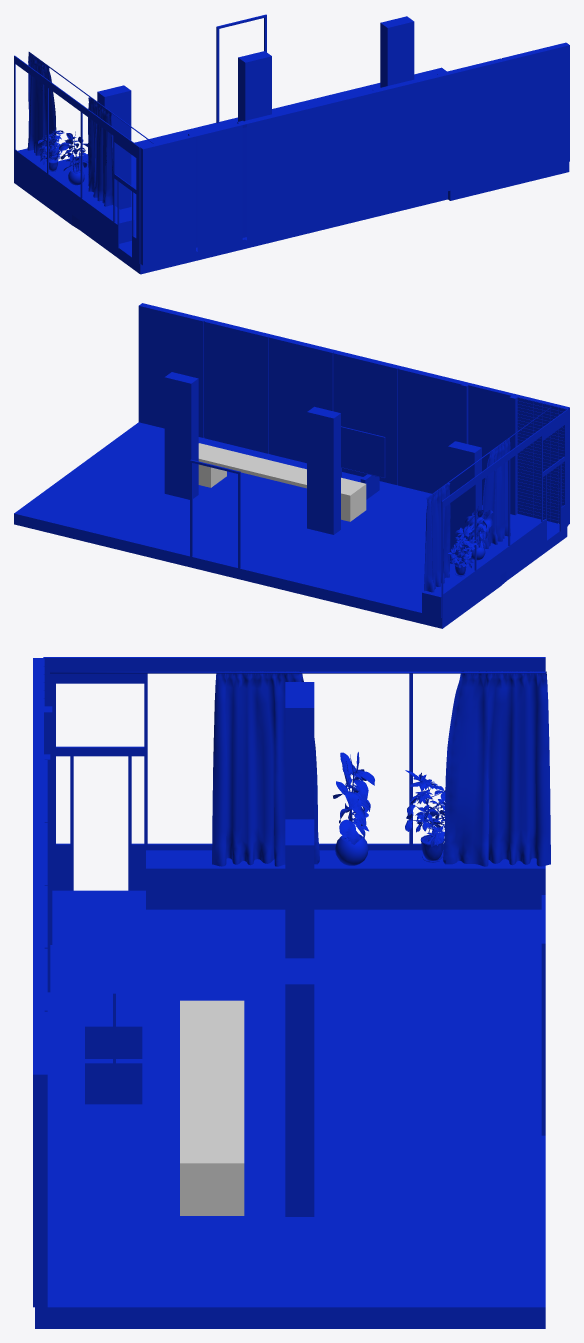
The model's file is blueroom.glb.
3 views of the same model, one above another, from view 1: azimuth 30°, elevation 25°; view 2: azimuth 150°, elevation 25°; view 3: azimuth 270°, elevation 25° (orthographic). The views are drawn at different scales.
Visible parts, largest first — view 1: BLUEROOM_MODEL; view 2: BLUEROOM_MODEL; view 3: BLUEROOM_MODEL.
Part boxes in pixels (x1,y1,x2,y2): BLUEROOM_MODEL: (14, 14, 569, 274); BLUEROOM_MODEL: (14, 303, 569, 628); BLUEROOM_MODEL: (33, 657, 550, 1328).
Size of the model in its own units: 15.6 by 4.38 by 8.07.
